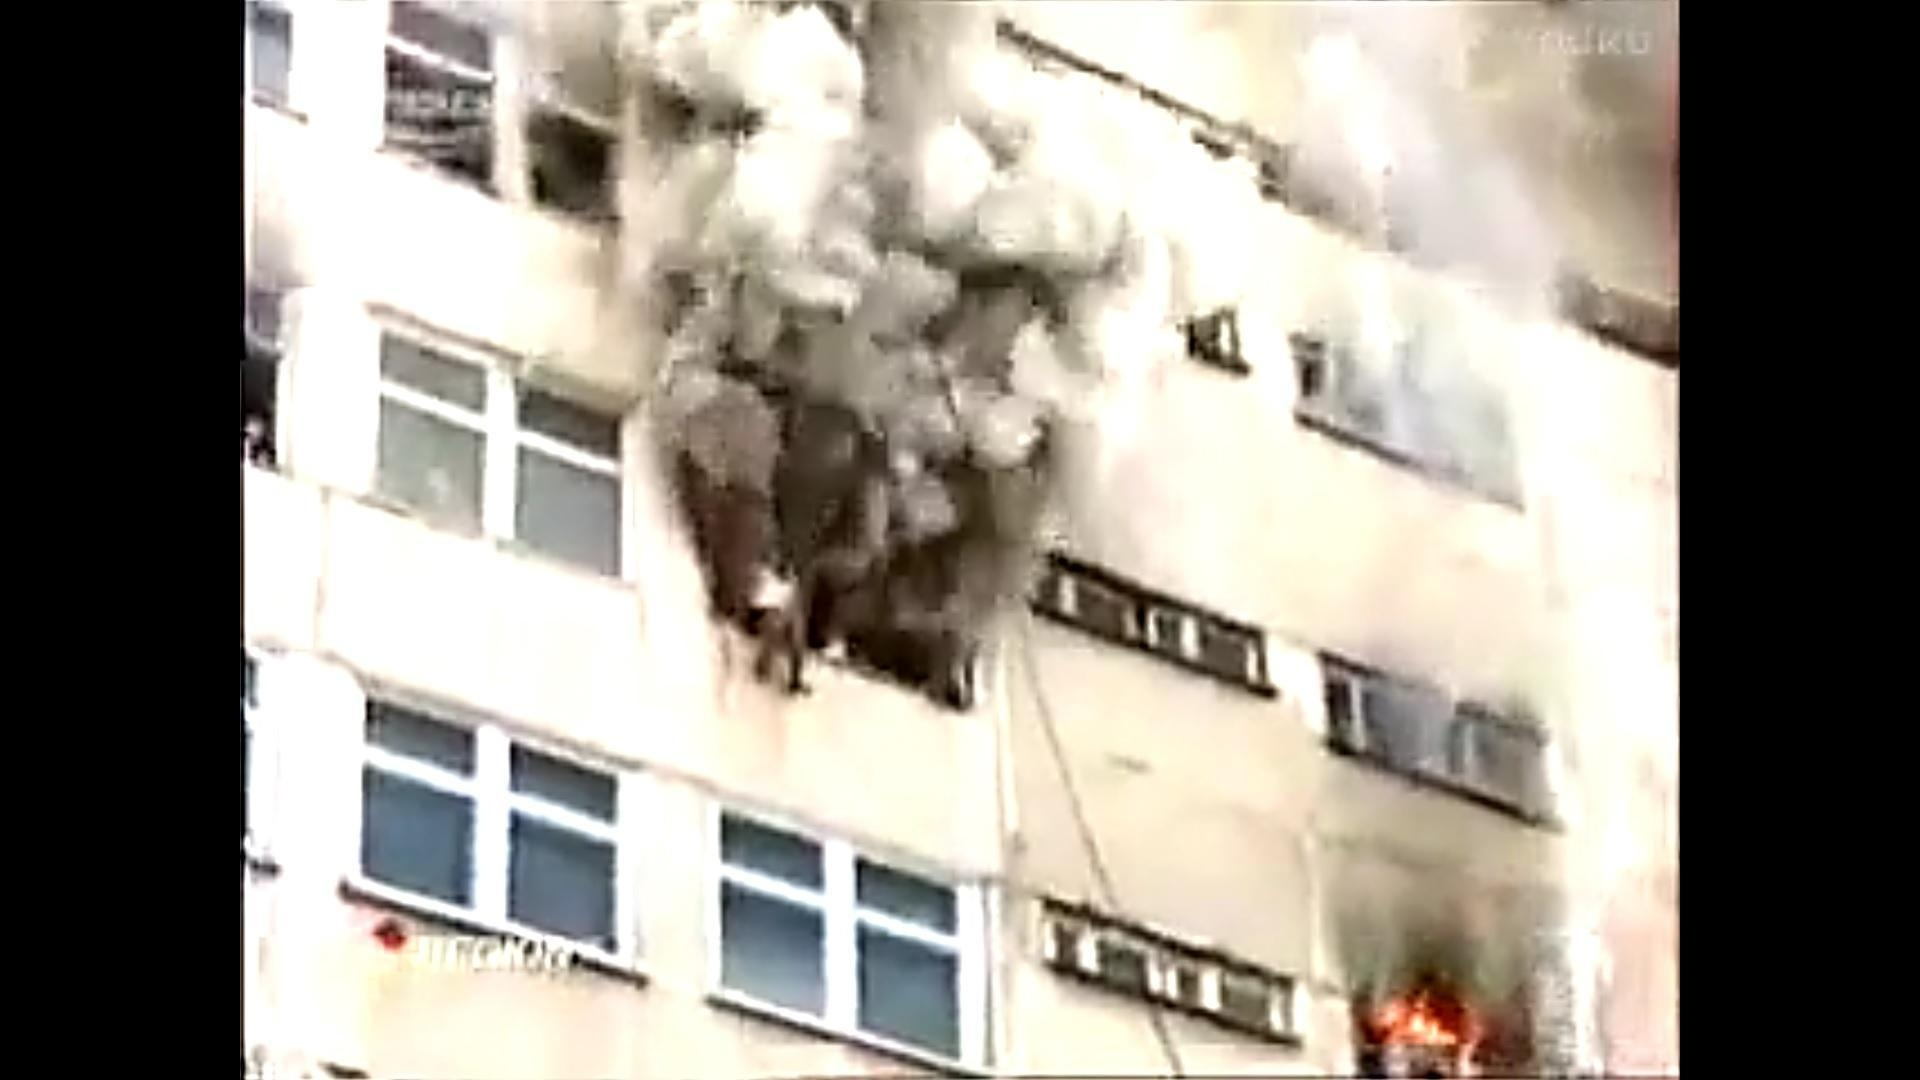fire: (1379, 992, 1484, 1062)
